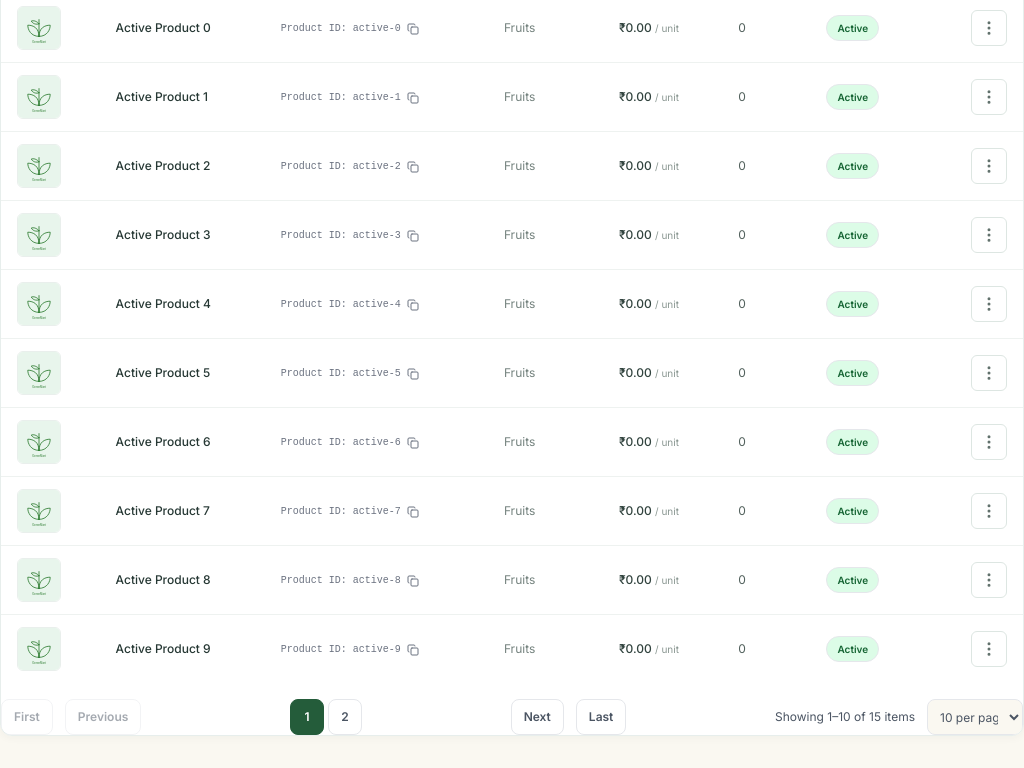
Test: Farmer My Products deleted filter › resets pagination to page 1 when the deleted filter is toggled
The image size is (1024, 768).
(page scrolled)
Click the button "2" at (345, 717), box left=328, top=699, right=362, bottom=735
(page scrolled)
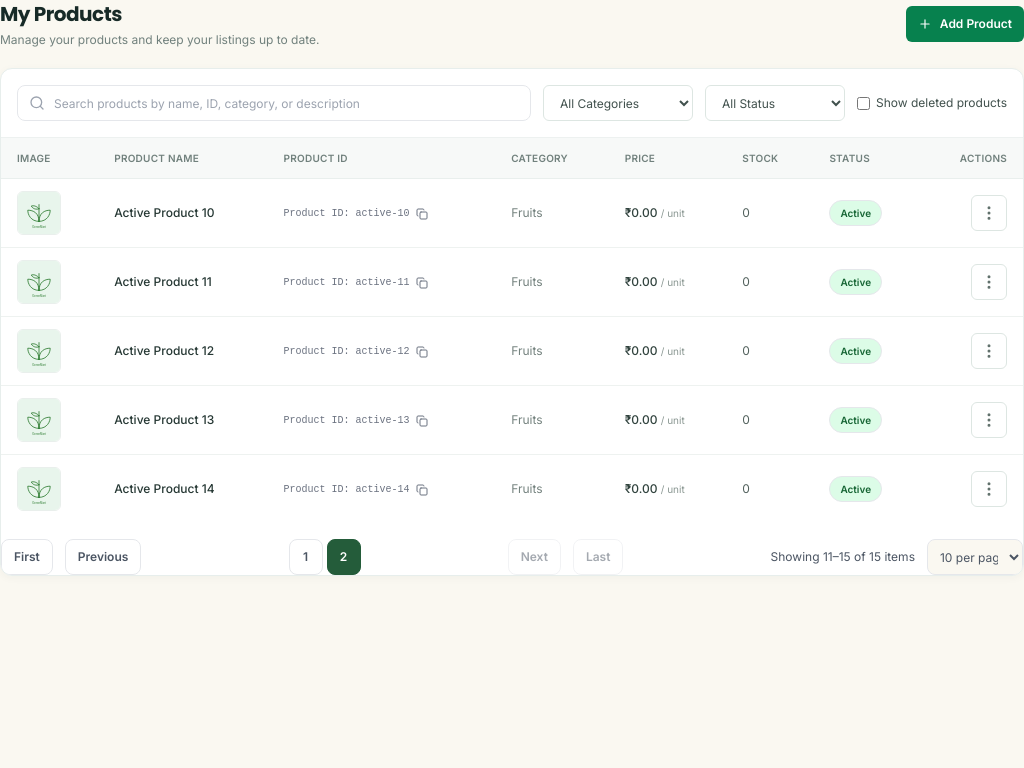
Click the checkbox labelled "Show deleted products" at (864, 103), box left=857, top=96, right=870, bottom=110
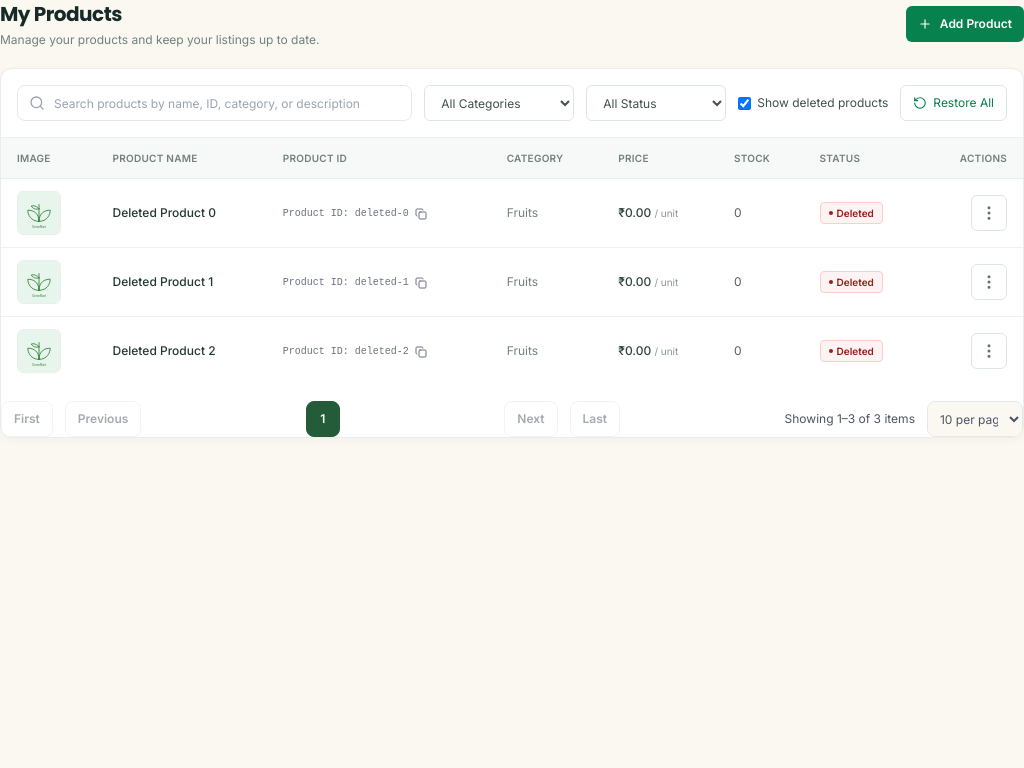
Expected: the text "Active Product 0" is not shown
Expected: the text "Deleted Product 0" is shown, left=97, top=178, right=267, bottom=248
